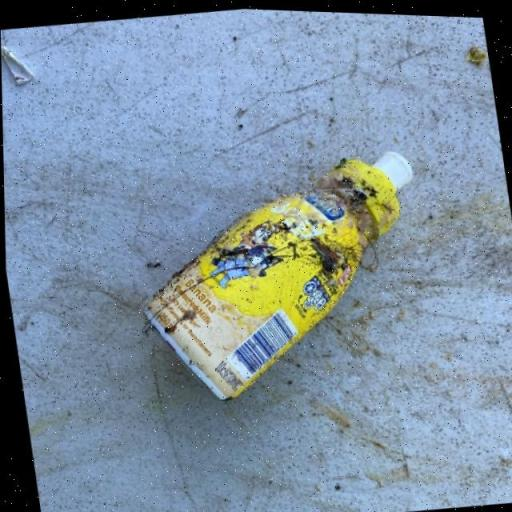plastic: (119, 136, 442, 414)
